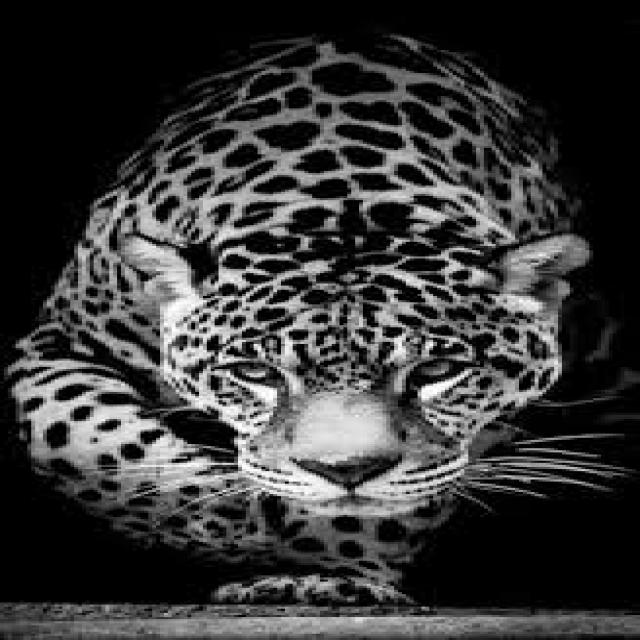Jaguar: (28, 33, 590, 613)
